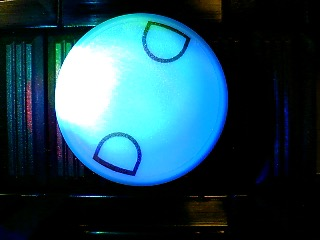MIPO2: (54, 12, 229, 186)
